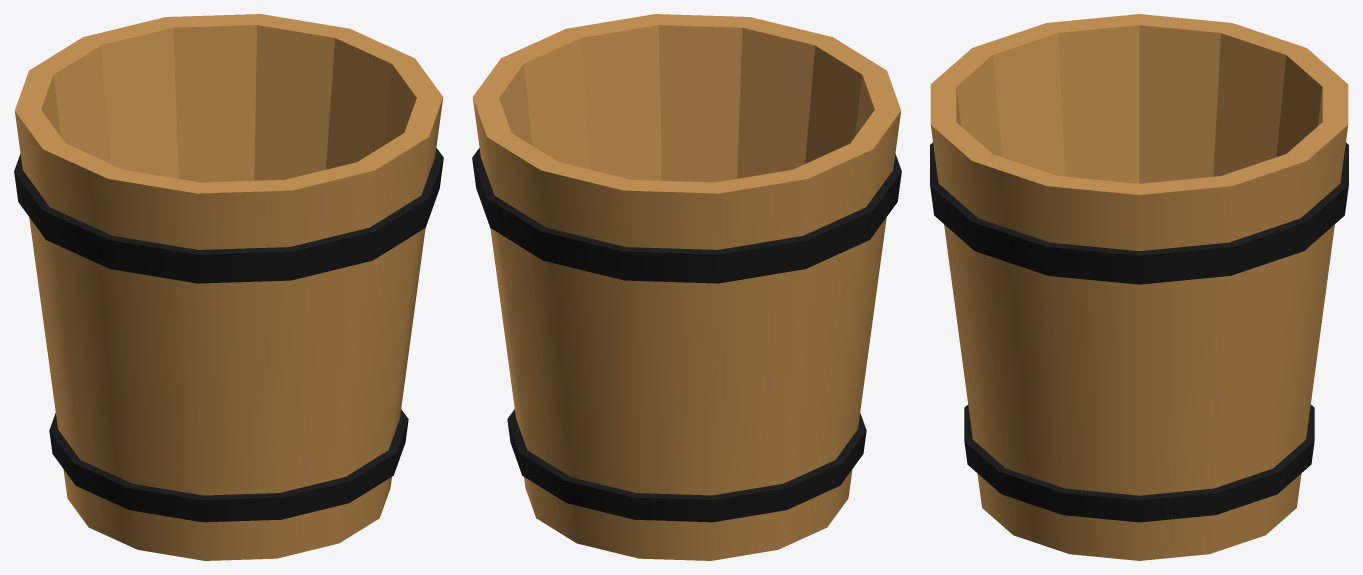
File: BaldeDeMadera.fbx
3 renders of one model, left to right at view 1: azimuth 30°, elevation 25°; view 2: azimuth 150°, elevation 25°; view 3: azimuth 270°, elevation 25°, orthographic.
Visible parts, largest first — view 1: Madera; view 2: Madera; view 3: Madera.
Part boxes in pixels (<box>): Madera: <box>14,14,443,560</box>; Madera: <box>472,14,901,560</box>; Madera: <box>930,14,1348,560</box>.
Size of the model in its own units: 19.74 by 19.69 by 19.25.
